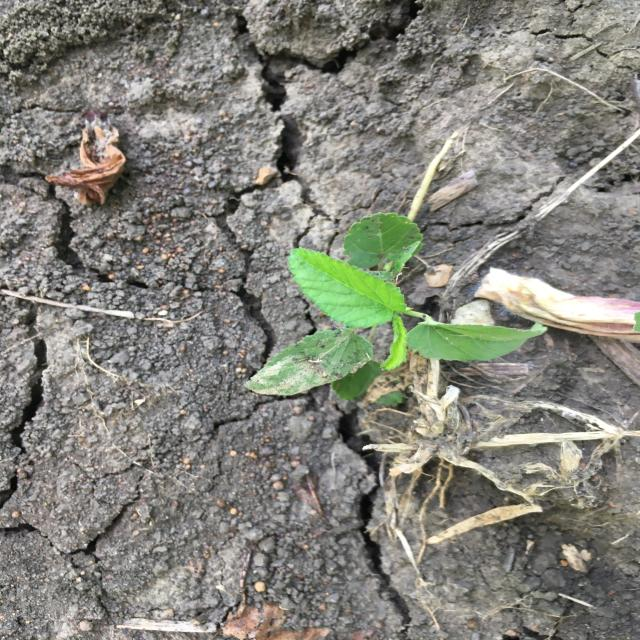PricklySida: (240, 210, 550, 411)
